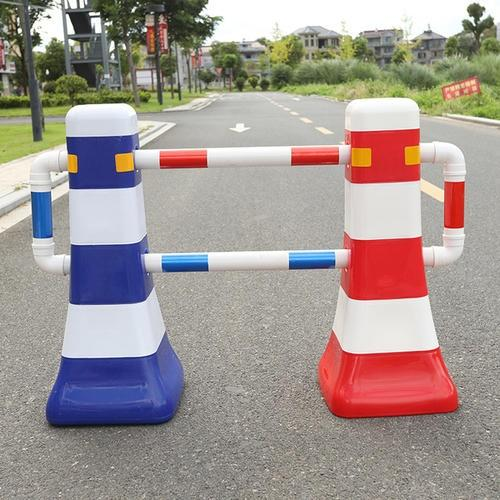cone_barrel: (40, 103, 188, 427), (312, 103, 462, 418)
